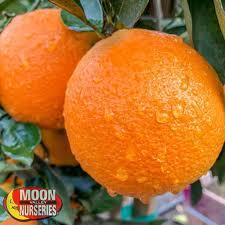orange: (60, 26, 223, 204), (0, 21, 103, 113)
